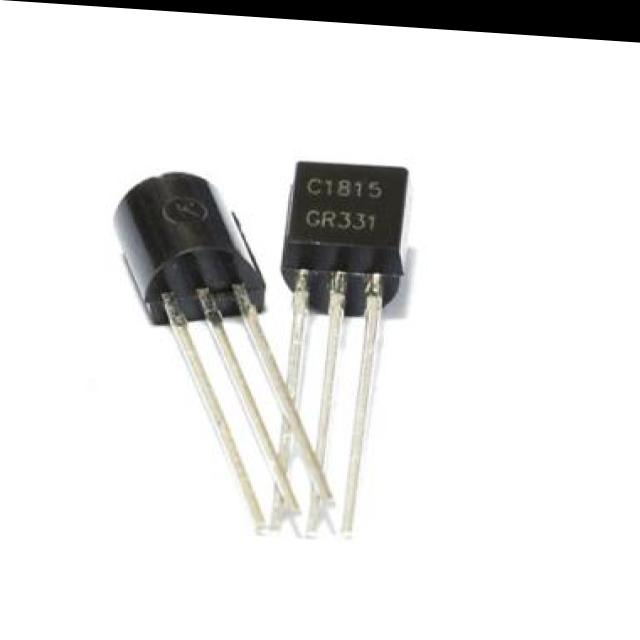Transistor: (113, 169, 344, 535), (281, 157, 411, 298)
